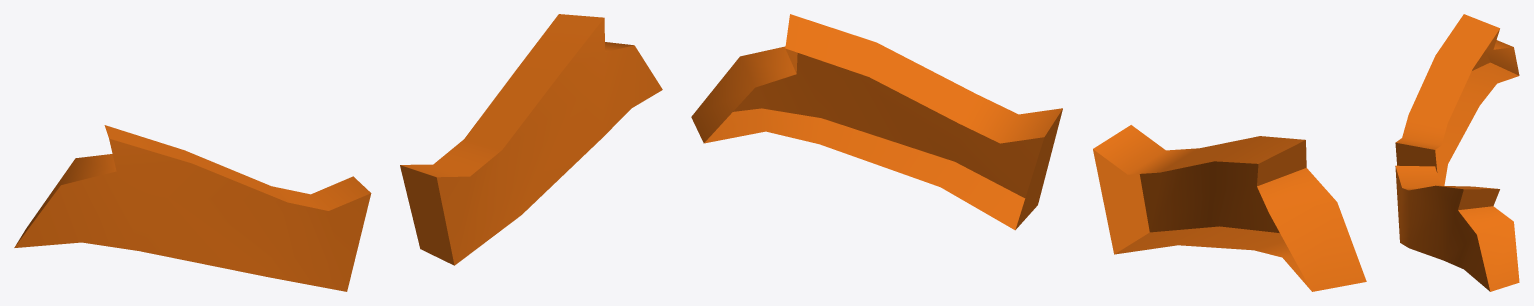
Rendered from Brow_Orange_7.fbx.
3 views of the same model, side by side, from view 1: azimuth 30°, elevation 25°; view 2: azimuth 150°, elevation 25°; view 3: azimuth 270°, elevation 25° (orthographic). The views are drawn at different scales.
Parts seen in each view (by area): view 1: Brow_Orange_7; view 2: Brow_Orange_7; view 3: Brow_Orange_7.
Boxes of the visible parts, box(x1,y1,x2,y2) form: Brow_Orange_7: box(14, 14, 662, 291); Brow_Orange_7: box(691, 14, 1366, 291); Brow_Orange_7: box(1395, 14, 1519, 291).
Size of the model in its own units: 38.5 by 9.68 by 8.8.
